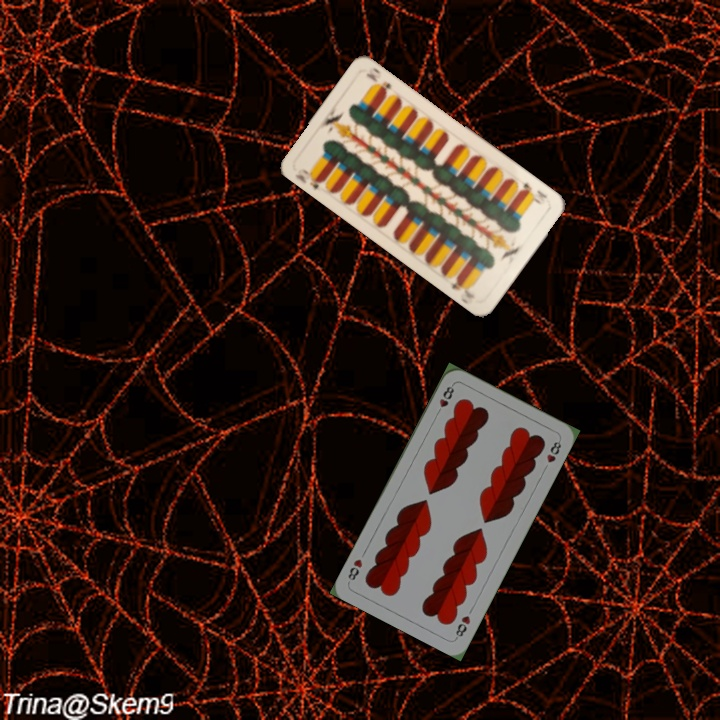E10: (291, 164, 327, 193), (516, 178, 549, 207)
H8: (432, 381, 457, 419), (451, 612, 473, 641)
